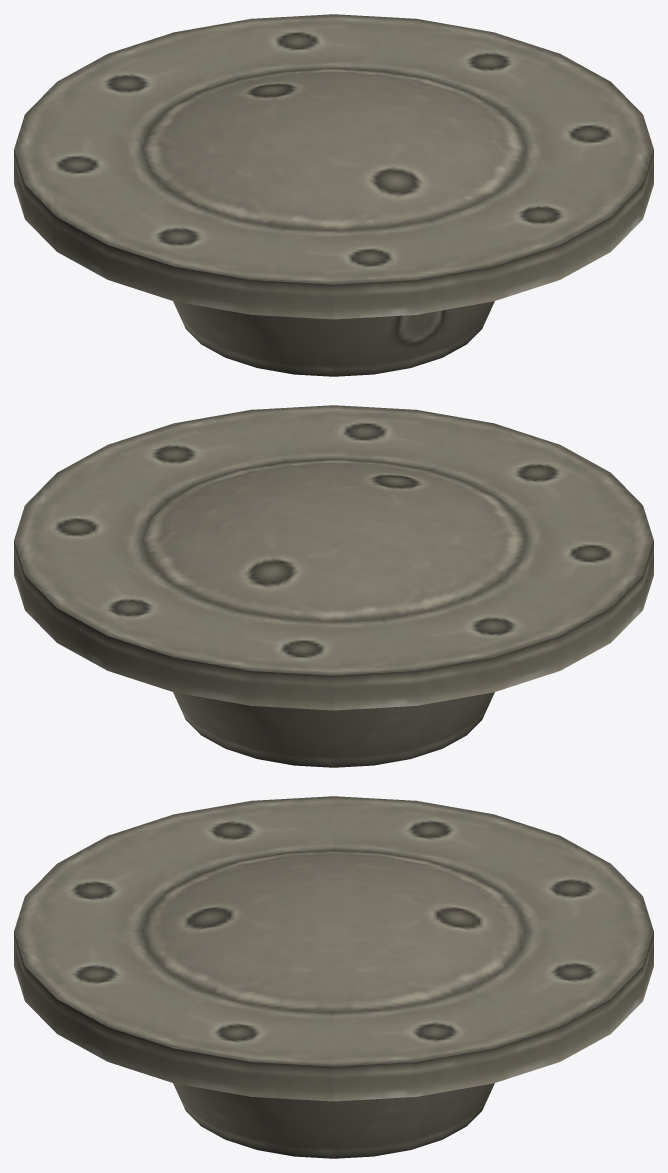
File: eridani_engine_s0_1_ring.obj
3 views of the same model, one above another, from view 1: azimuth 30°, elevation 25°; view 2: azimuth 150°, elevation 25°; view 3: azimuth 270°, elevation 25° (orthographic).
Visible parts, largest first — view 1: mesh1; view 2: mesh1; view 3: mesh1.
Part boxes in pixels (left/top/right/bottom): mesh1: left=14, top=14, right=653, bottom=376; mesh1: left=14, top=405, right=653, bottom=767; mesh1: left=14, top=796, right=653, bottom=1158.
Bounding box in the file's own units: 0.625 × 0.2 × 0.625.
Materials: 1 (1 with a texture image).
